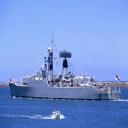Fragata: (9, 49, 122, 102)
